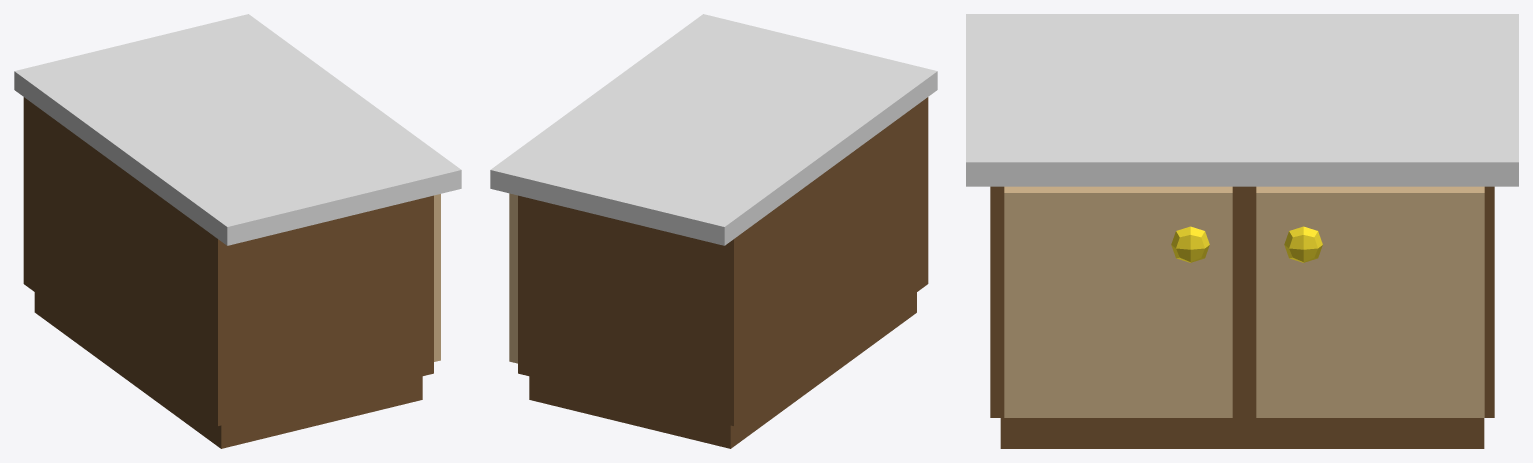
The model's file is Item401Mod.fbx.
3 views of the same model, side by side, from view 1: azimuth 30°, elevation 25°; view 2: azimuth 150°, elevation 25°; view 3: azimuth 270°, elevation 25° (orthographic). The views are drawn at different scales.
Visible parts, largest first — view 1: Item_401_mod; view 2: Item_401_mod; view 3: Item_401_mod.
Boxes of the visible parts, x1,y1,x2,y2 form: Item_401_mod: (14, 14, 461, 448); Item_401_mod: (490, 14, 937, 448); Item_401_mod: (966, 14, 1518, 448).
Size of the model in its own units: 63.44 by 57.36 by 94.9.
